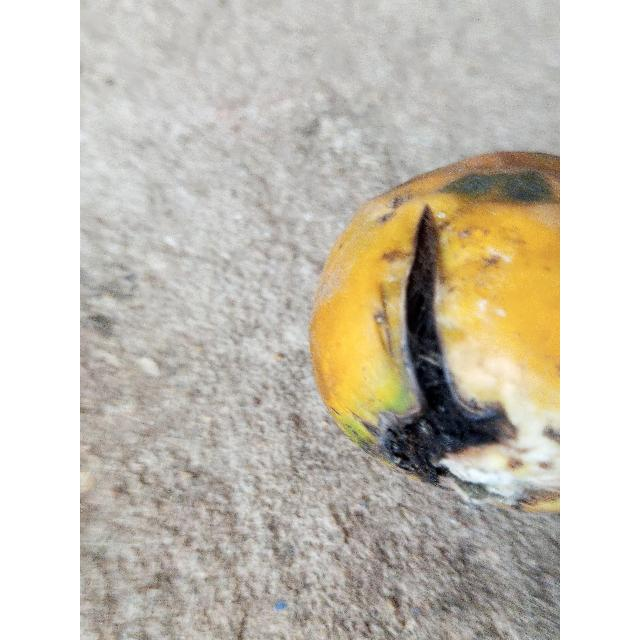damaged: (309, 151, 560, 516)
